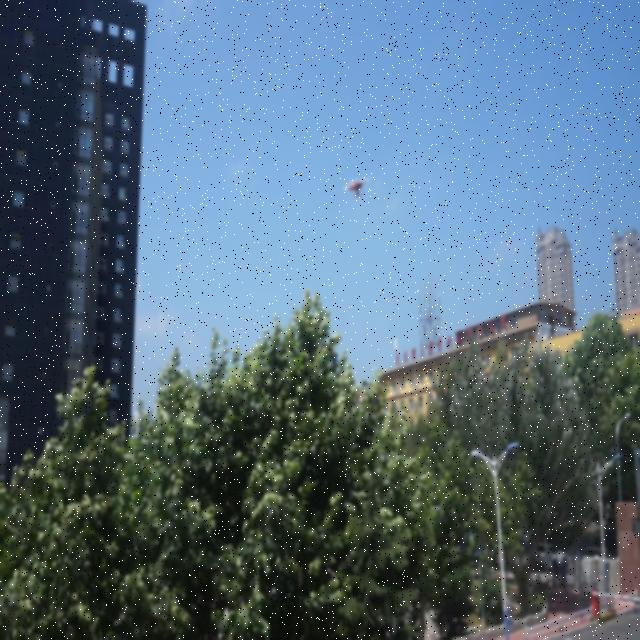UAV: (343, 176, 370, 199)
